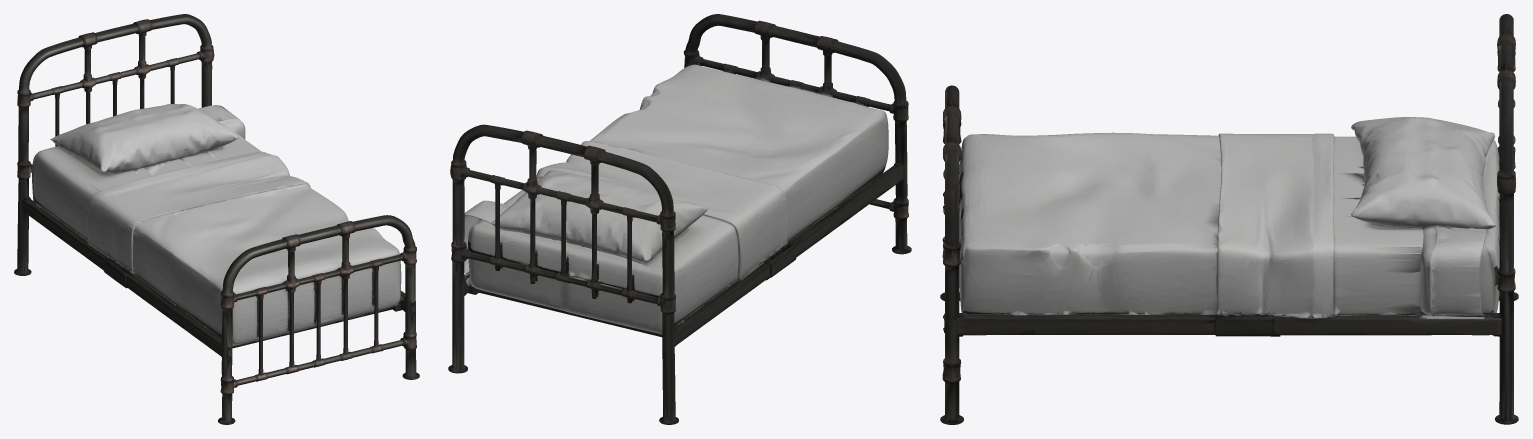
The model's file is bed.fbx.
3 renders of one model, left to right at view 1: azimuth 30°, elevation 25°; view 2: azimuth 150°, elevation 25°; view 3: azimuth 270°, elevation 25°, orthographic. The views are drawn at different scales.
Visible parts, largest first — view 1: tripo_node_acfc3e8e; view 2: tripo_node_acfc3e8e; view 3: tripo_node_acfc3e8e.
Boxes of the visible parts, x1,y1,x2,y2 form: tripo_node_acfc3e8e: (14,14,419,424); tripo_node_acfc3e8e: (448,14,911,424); tripo_node_acfc3e8e: (940,14,1518,424).
Bounding box in the file's own units: 53.99 × 97.92 × 56.62.
1 material, 1 textured.
